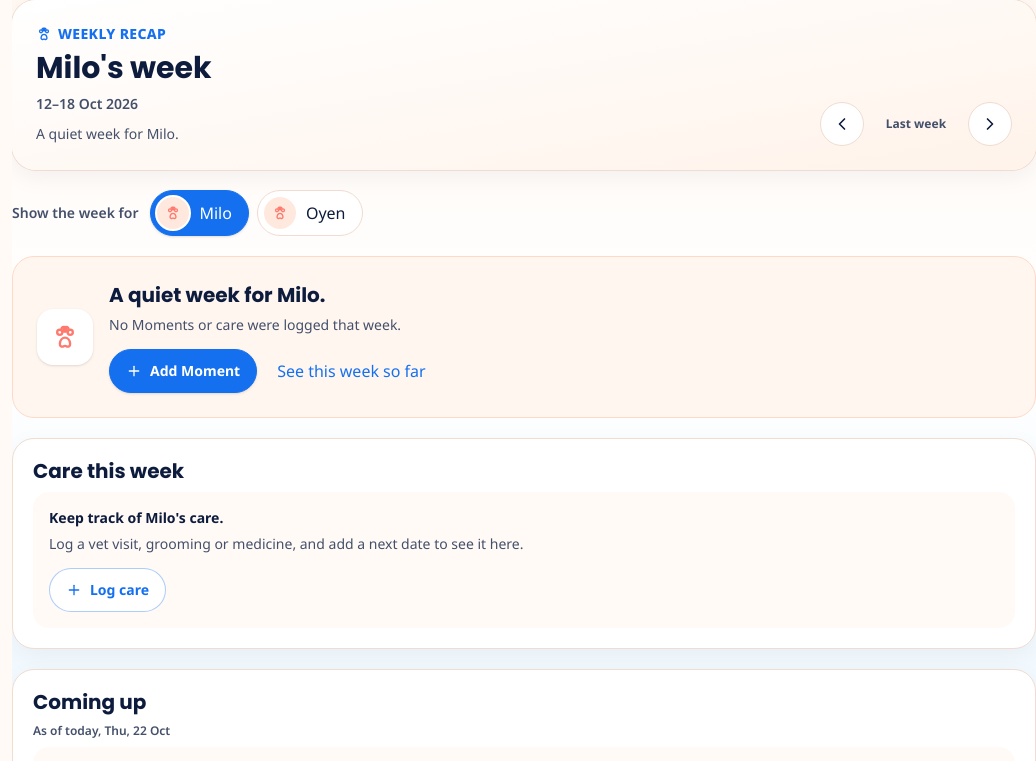
Weekly Recap page › offers this week from a quiet last week, with no empty panels
Expected: the heading "A quiet week for Milo." is shown, [109,280,326,308]
Expected: the text "Log a vet visit, grooming or medicine, and add a next date to see it here." is shown, [49,534,524,552]
Click the button "See this week so far" at (351, 370), box [269,348,434,392]
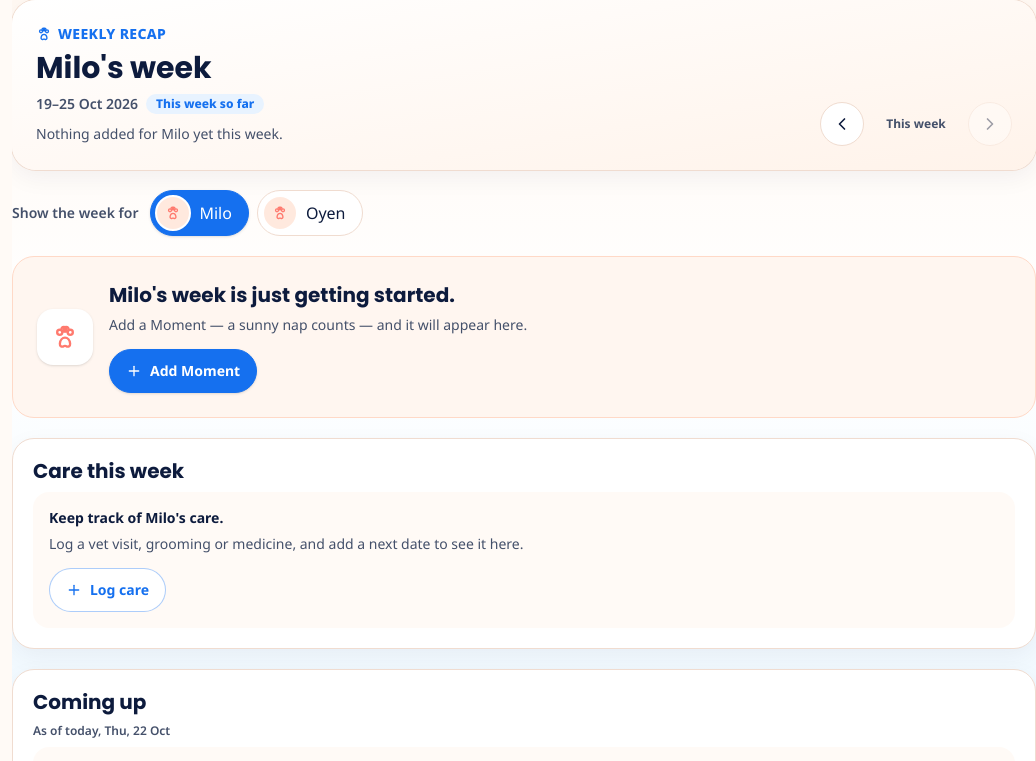
Expected: the heading "Milo's week is just getting started." is shown, [109,280,455,308]
